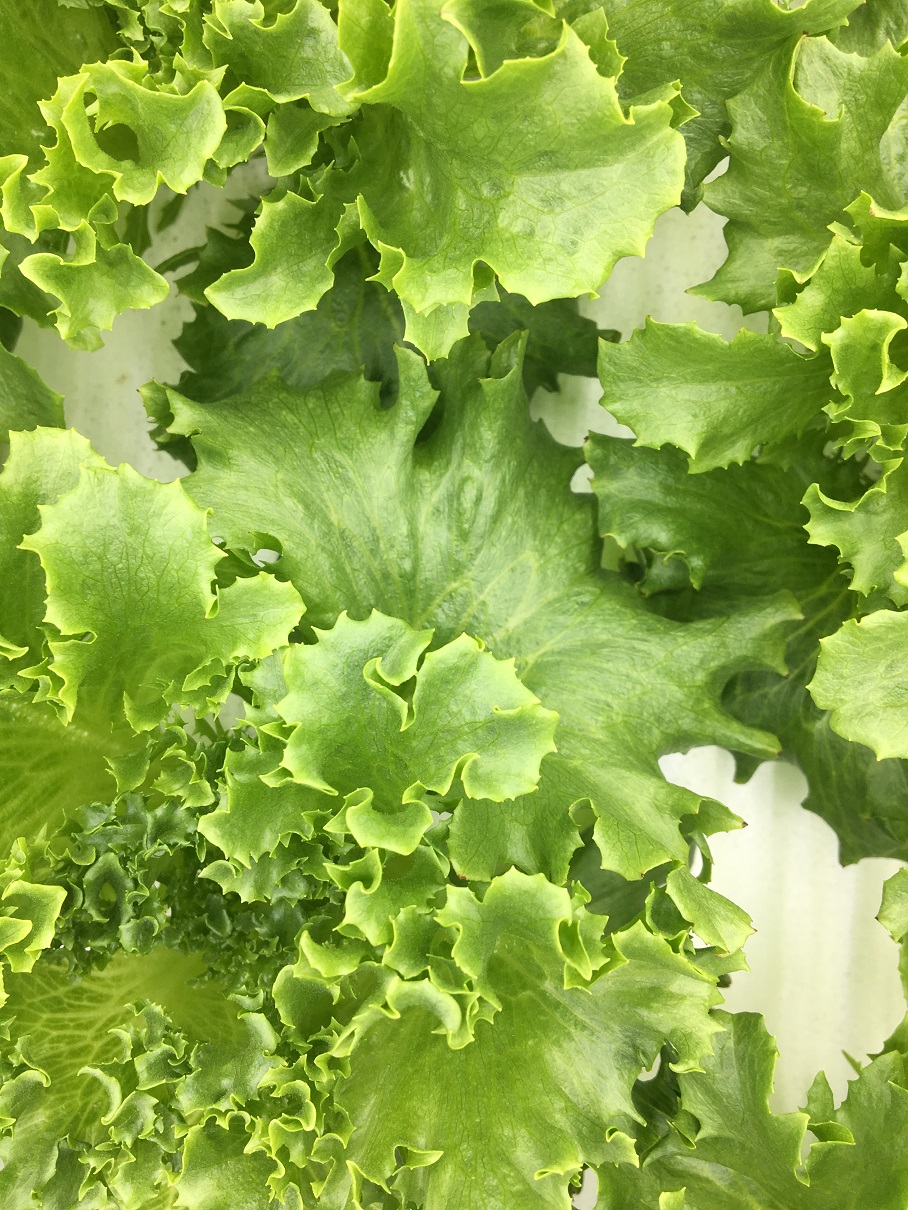tipburn: (724, 803, 762, 844), (118, 372, 156, 410), (669, 272, 705, 308), (569, 418, 604, 455), (862, 901, 897, 938), (444, 859, 476, 892), (699, 936, 731, 968), (811, 90, 845, 120), (423, 5, 452, 32), (634, 304, 660, 331), (801, 23, 826, 50), (750, 915, 772, 944)
